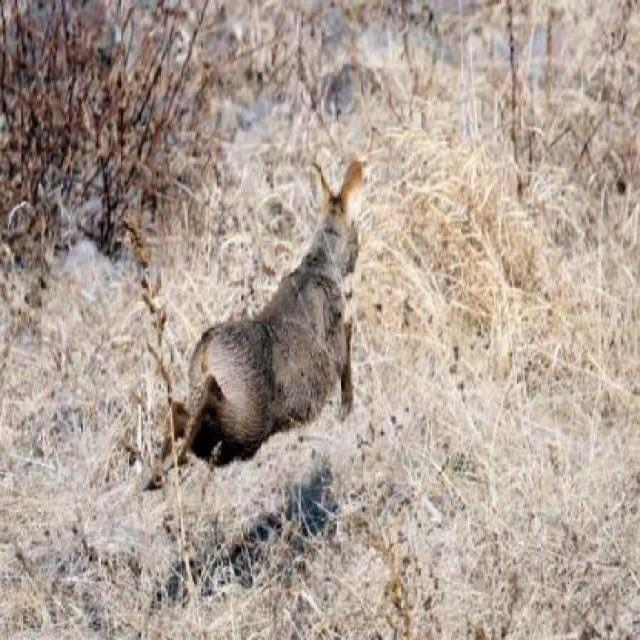deer: (172, 154, 366, 470)
